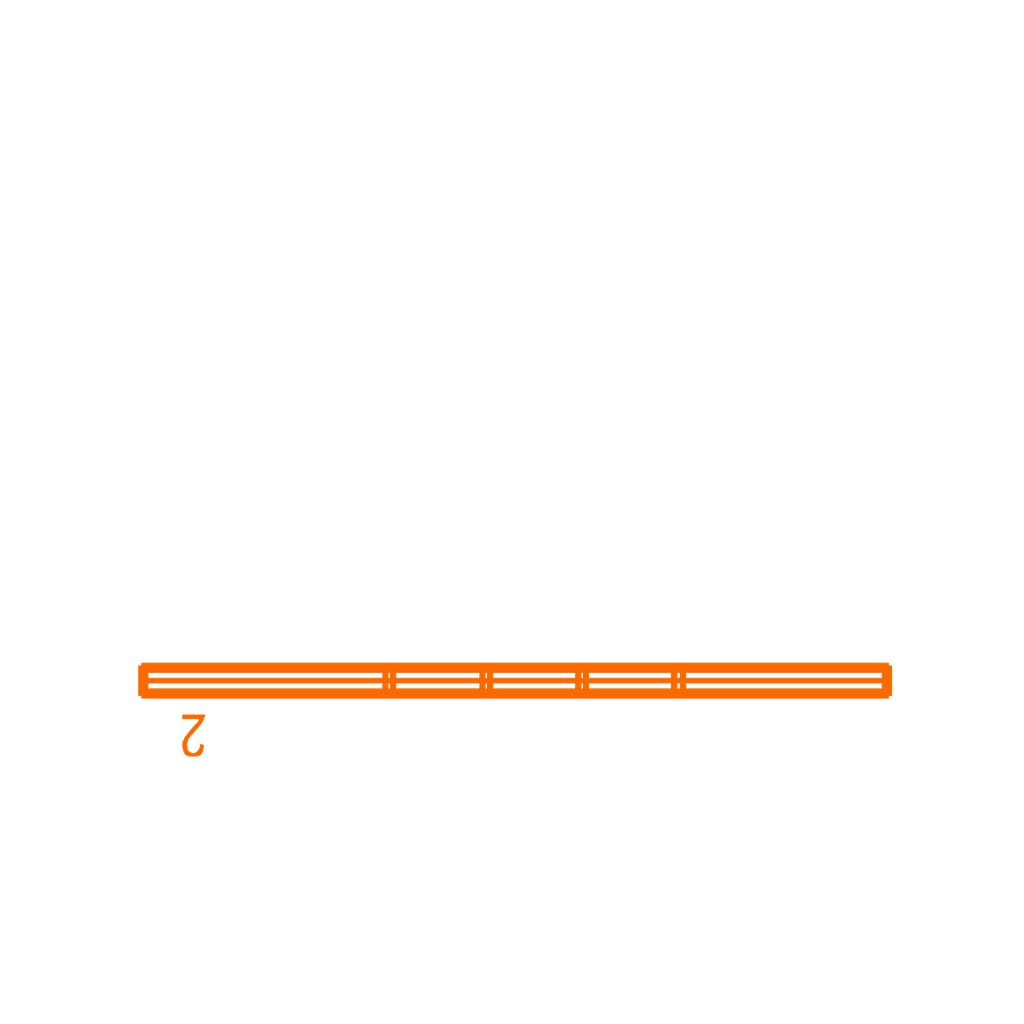Ambulanz_Pendelleuchte_LED: (129, 650, 903, 762)
